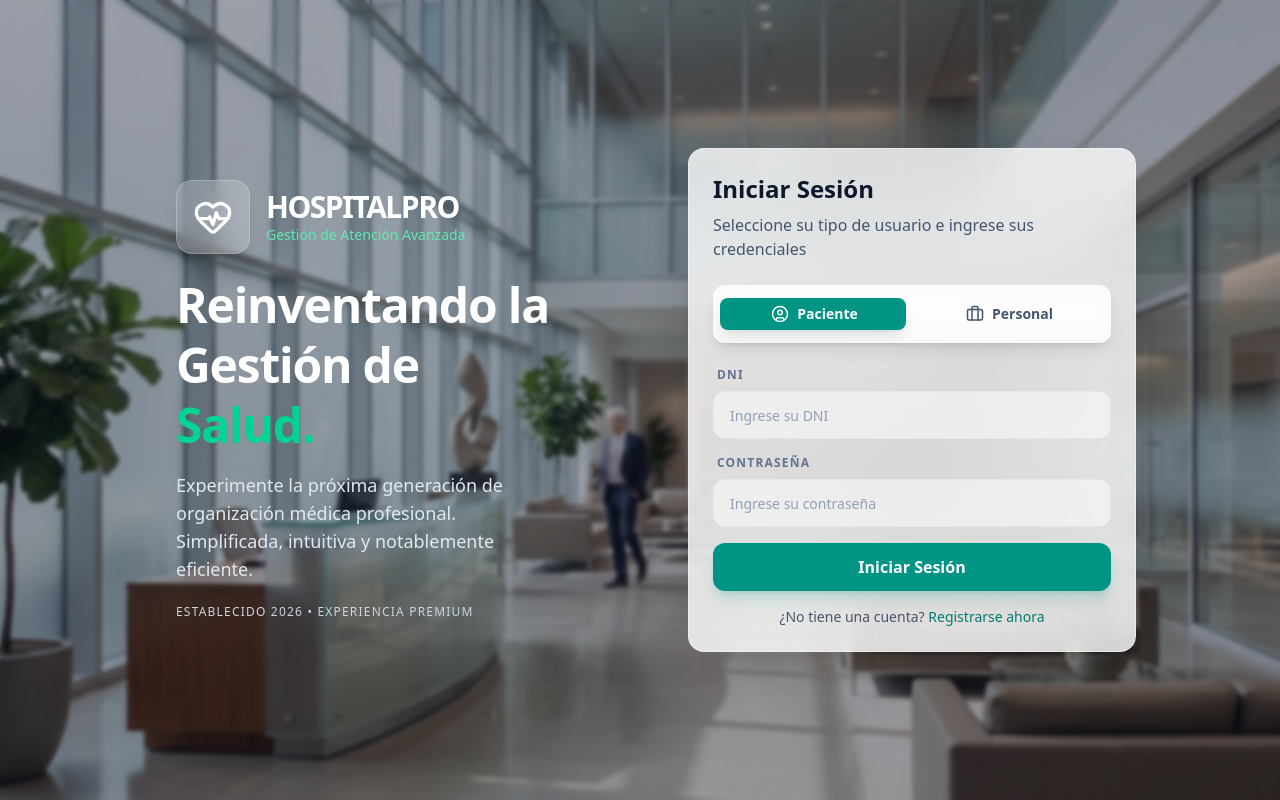
Test case: Login Dual Mode › clears error when switching tabs
Note: Submit patient form with invalid data to trigger error
Click the button "Iniciar Sesión": click(912, 567) [713,543,1111,591]
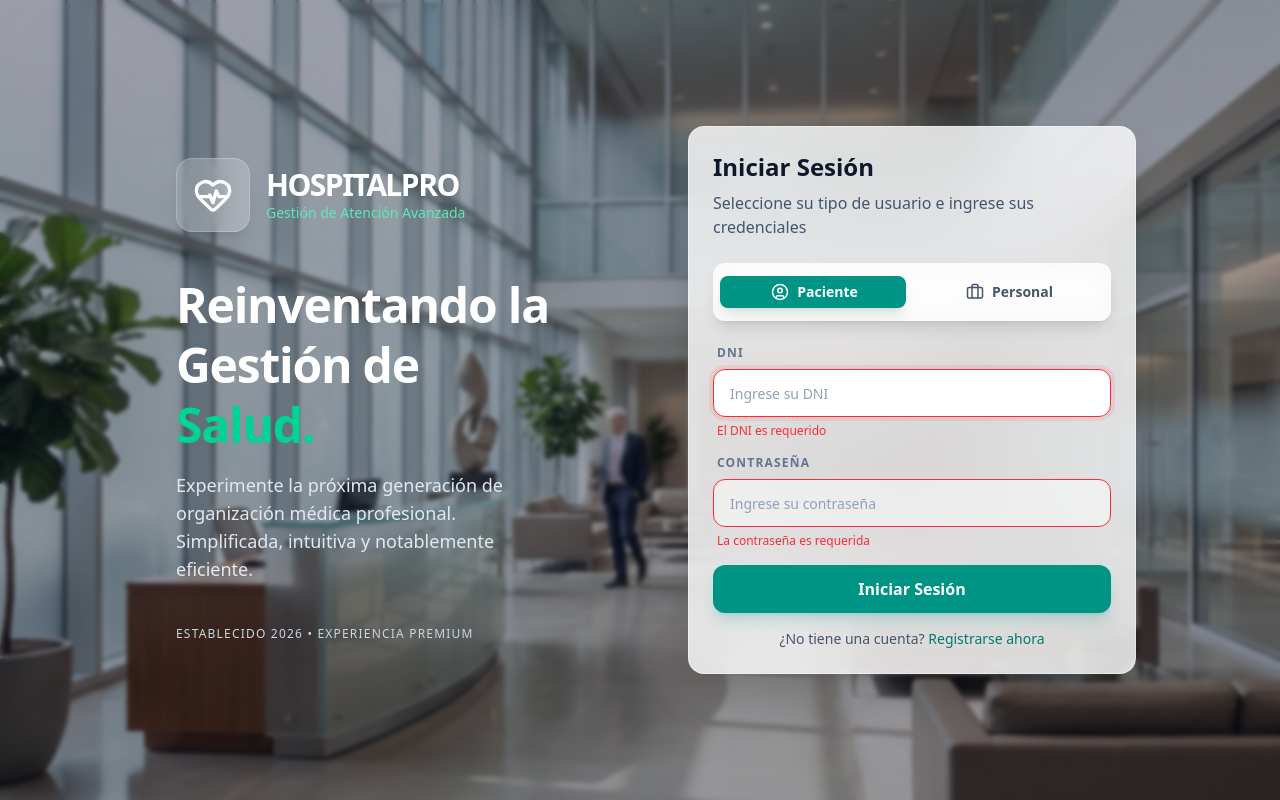
Expected: the text "El DNI es requerido" is shown, [717,422,826,439]
Note: Switch to Staff tab
Click the button "Personal": click(1010, 292) [915,270,1104,314]
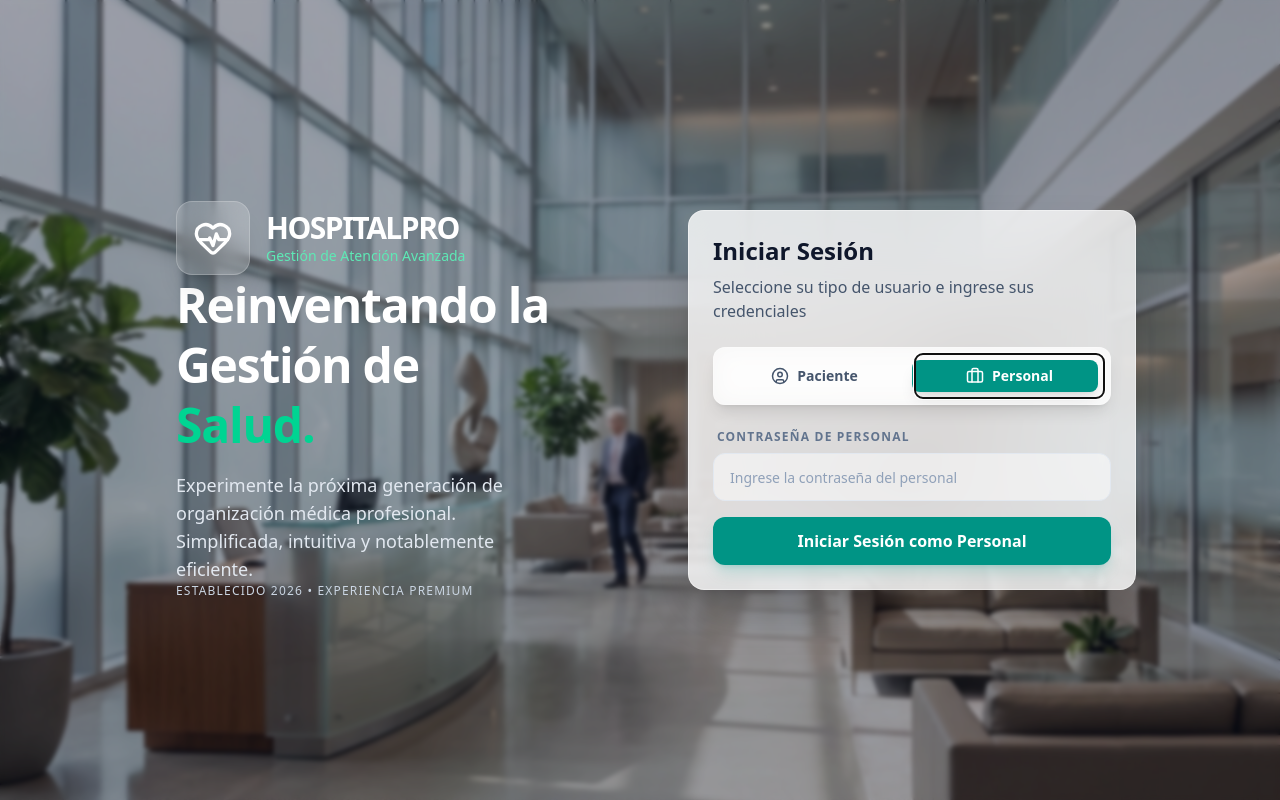
Expected: the text "El DNI es requerido" is gone
